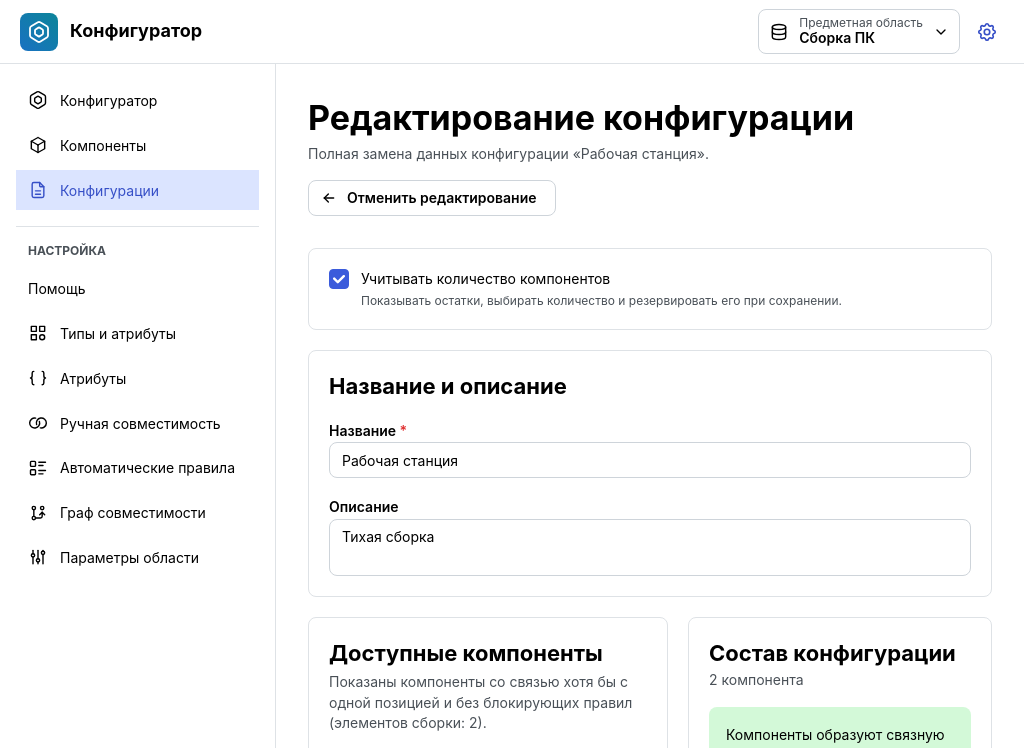
configuration details and editor › shows contextual stock in a tracked editor and hides quantities when tracking is disabled
Check: the heading "Редактирование конфигурации" is shown, box x1=308 y1=96 x2=854 y2=140
Click the checkbox labelled "Учитывать количество компонентов" at [339, 280], box x1=329 y1=270 x2=349 y2=290
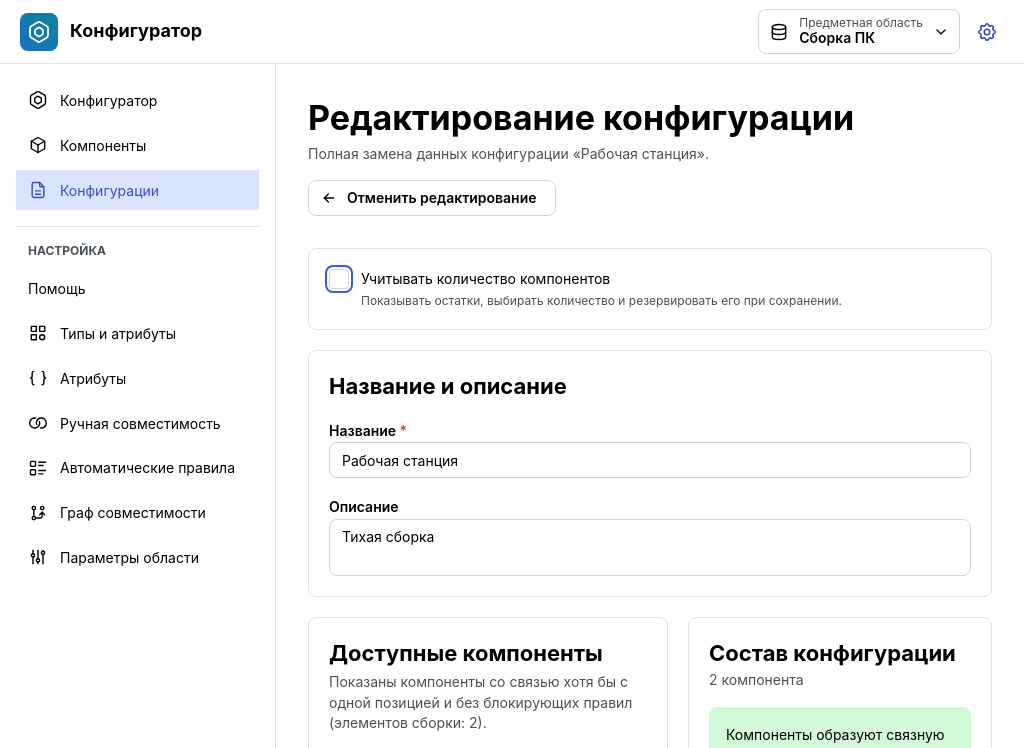
Check: the text "Доступно: 3 · выбрано: 3" is not shown
Click the checkbox labelled "Учитывать количество компонентов" at [339, 280], box x1=329 y1=270 x2=349 y2=290
(page scrolled)
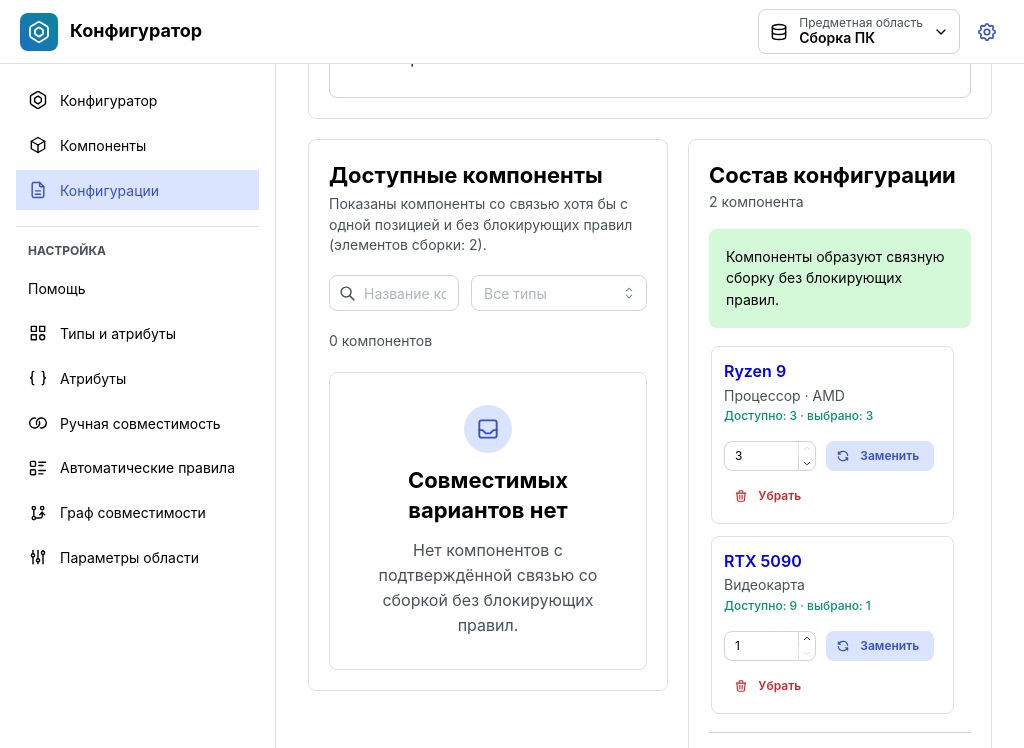
Check: the field named "Количество «Ryzen 9»" holds "3", box x1=724 y1=441 x2=816 y2=471
Check: the text "Доступно: 3 · выбрано: 3" is shown, box x1=724 y1=408 x2=873 y2=425
